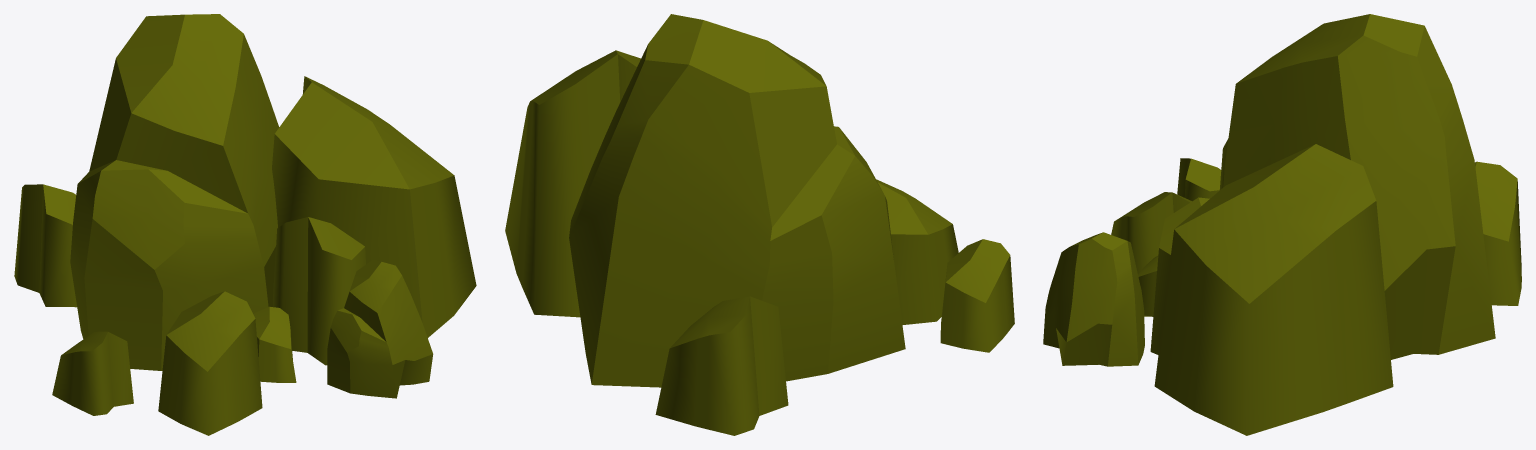
The model's file is BouldersY.glb.
3 renders of one model, left to right at view 1: azimuth 30°, elevation 25°; view 2: azimuth 150°, elevation 25°; view 3: azimuth 270°, elevation 25°, orthographic. The views are drawn at different scales.
Parts seen in each view (by area): view 1: Resource_Rock_2; view 2: Resource_Rock_2; view 3: Resource_Rock_2.
Boxes of the visible parts, x1,y1,x2,y2 form: Resource_Rock_2: [14, 14, 476, 435]; Resource_Rock_2: [505, 14, 1014, 435]; Resource_Rock_2: [1043, 14, 1521, 435].
Bounding box in the file's own units: 1.04 × 0.7088 × 0.9603.
